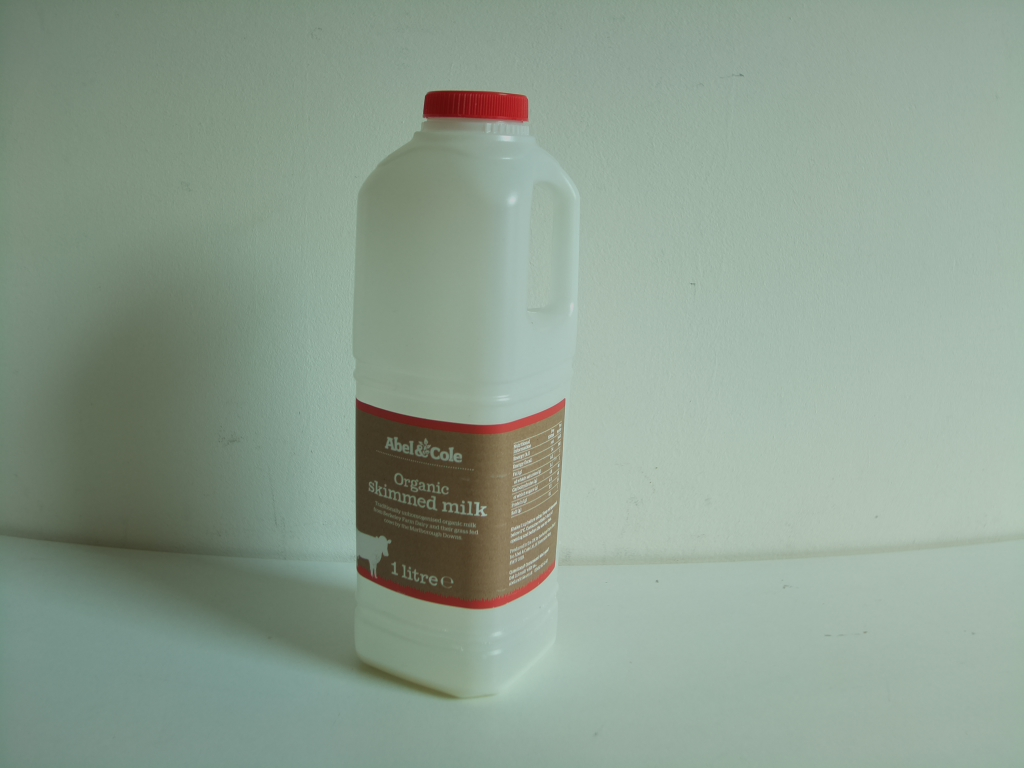milk: (345, 87, 584, 708)
